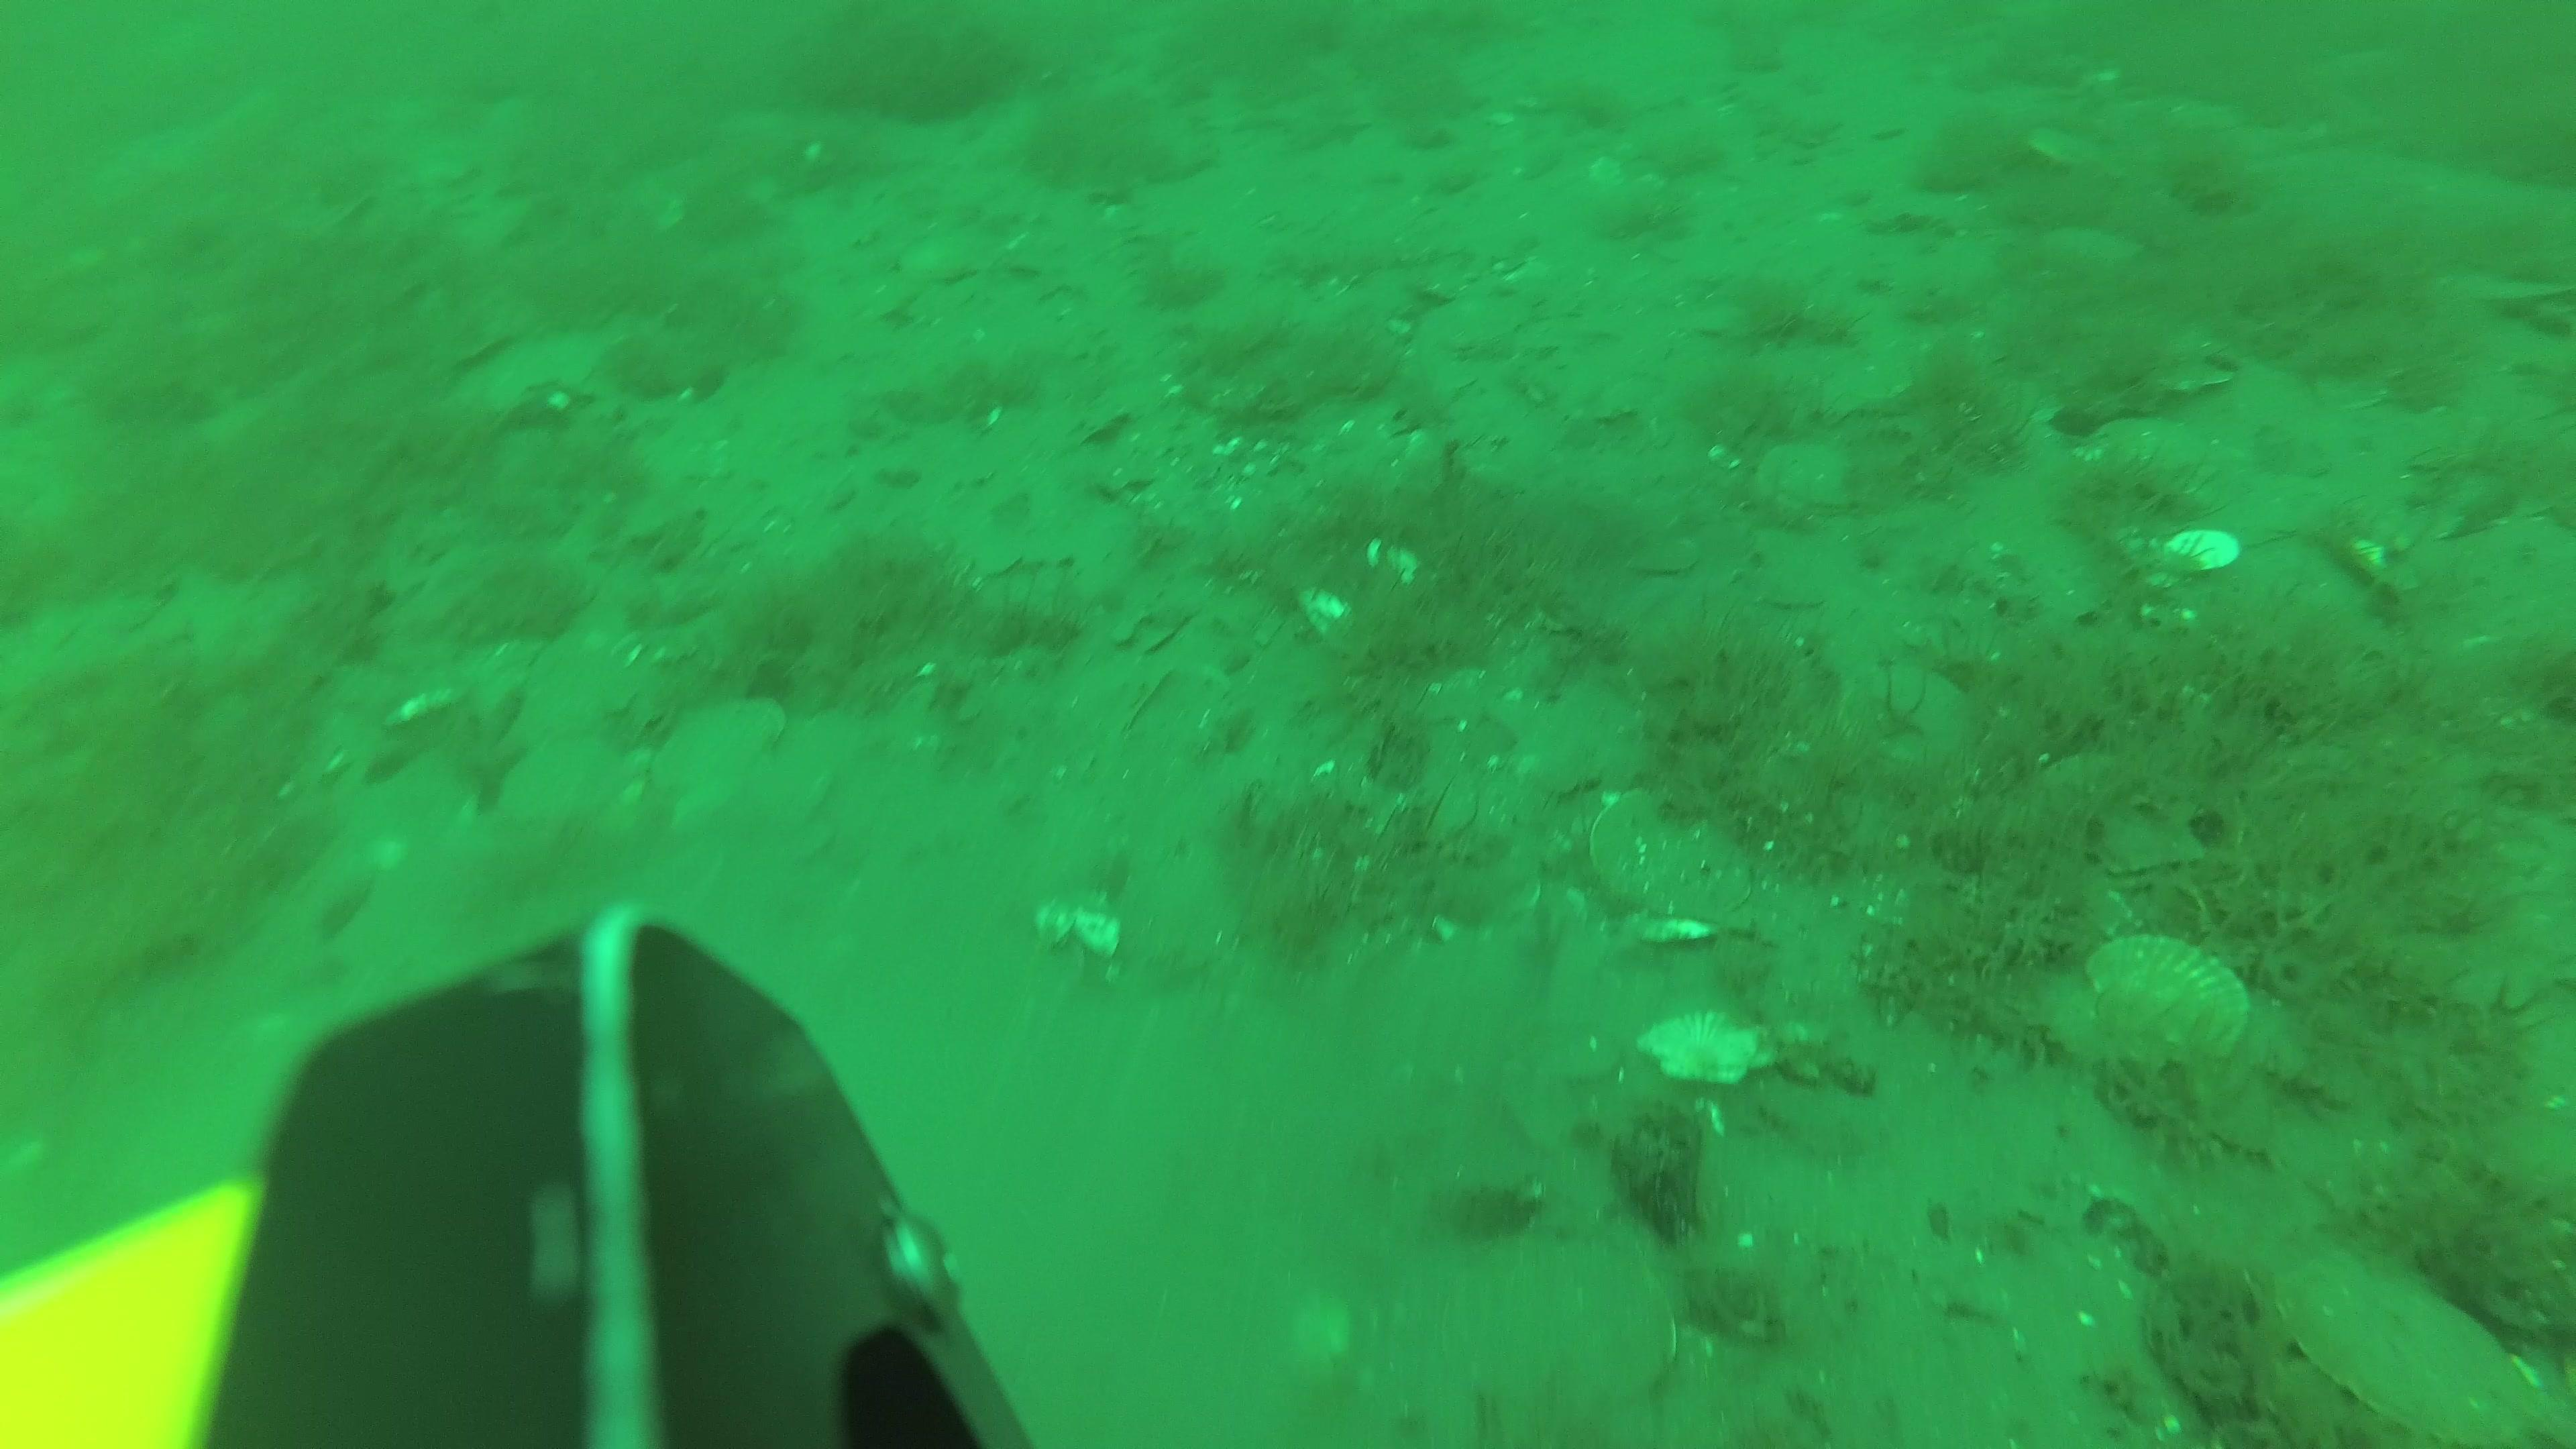scallop: (2270, 1246, 2557, 1444), (2088, 913, 2261, 1074), (1585, 775, 1766, 924), (2020, 747, 2227, 876), (1835, 656, 1980, 782), (640, 692, 798, 798), (1640, 996, 1801, 1092), (1746, 437, 1874, 525), (1488, 1060, 1575, 1157), (1417, 292, 1534, 359), (888, 226, 987, 287), (1437, 711, 1523, 771), (1543, 1039, 1628, 1081)
